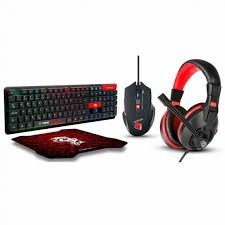keyboard: (0, 79, 122, 141)
mouse: (121, 82, 156, 139)
